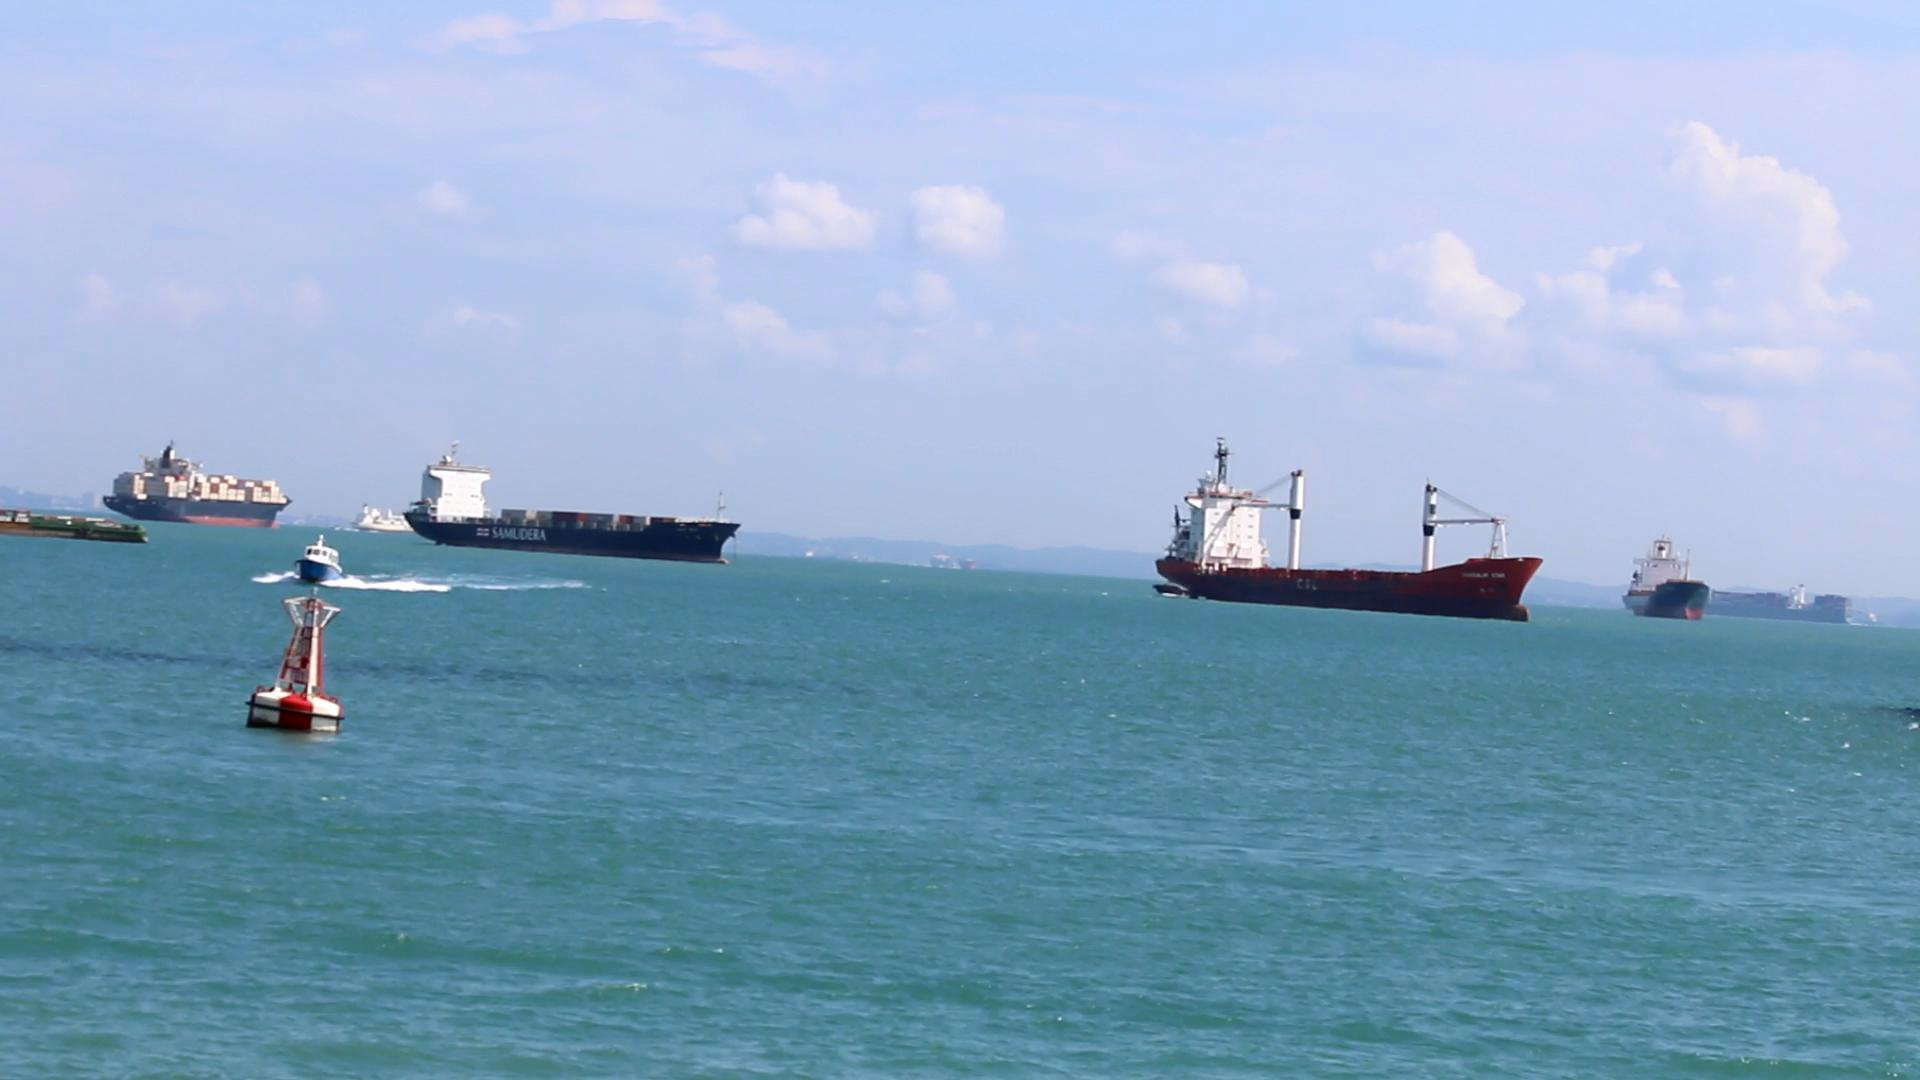Container Ship: (1153, 434, 1547, 625), (404, 443, 740, 570), (104, 439, 297, 533), (1622, 531, 1709, 624), (1705, 582, 1855, 625), (0, 505, 146, 546), (352, 502, 414, 535)
